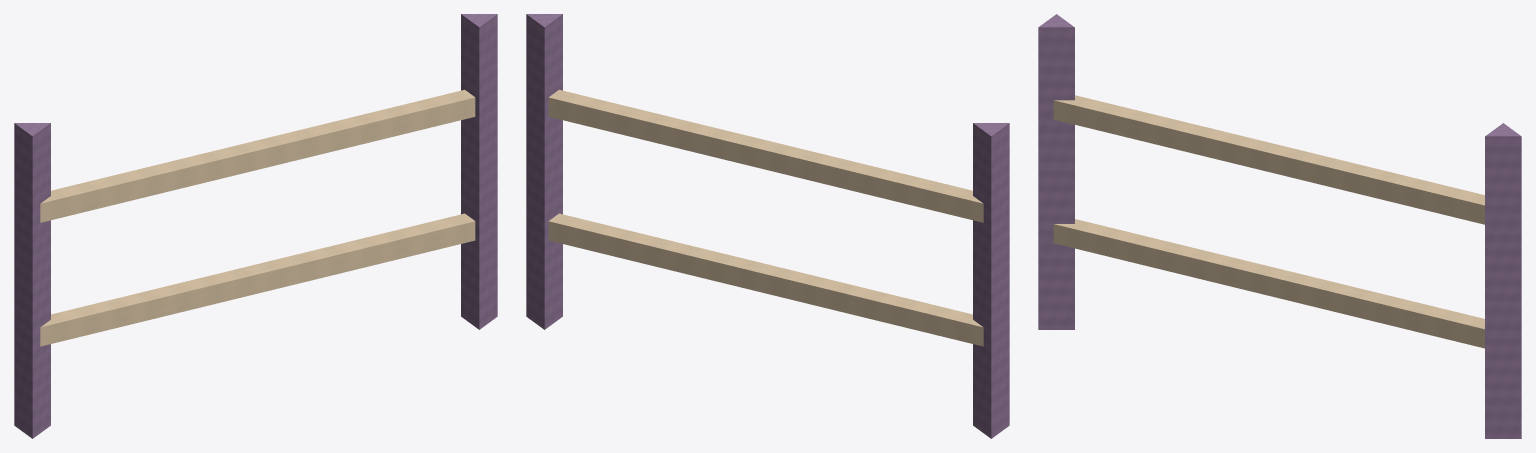
Rendered from atlas100-papercraft-util04.lod2.glb.
The picture shows the model from 3 angles, left to right: view 1: azimuth 30°, elevation 25°; view 2: azimuth 150°, elevation 25°; view 3: azimuth 330°, elevation 25°; orthographic projection.
Parts seen in each view (by area): view 1: atlas100-papercraft-util04:part-004, atlas100-papercraft-util04:part-005, atlas100-papercraft-util04:part-000, atlas100-papercraft-util04:part-002; view 2: atlas100-papercraft-util04:part-004, atlas100-papercraft-util04:part-005, atlas100-papercraft-util04:part-000, atlas100-papercraft-util04:part-002; view 3: atlas100-papercraft-util04:part-005, atlas100-papercraft-util04:part-004, atlas100-papercraft-util04:part-002, atlas100-papercraft-util04:part-000.
Boxes of the visible parts, x1,y1,x2,y2 form: atlas100-papercraft-util04:part-004: [40, 213, 475, 346]; atlas100-papercraft-util04:part-005: [40, 89, 475, 222]; atlas100-papercraft-util04:part-000: [14, 123, 50, 438]; atlas100-papercraft-util04:part-002: [461, 14, 497, 329]; atlas100-papercraft-util04:part-004: [548, 213, 983, 346]; atlas100-papercraft-util04:part-005: [548, 89, 983, 222]; atlas100-papercraft-util04:part-000: [973, 123, 1009, 438]; atlas100-papercraft-util04:part-002: [526, 14, 562, 329]; atlas100-papercraft-util04:part-005: [1053, 95, 1484, 224]; atlas100-papercraft-util04:part-004: [1053, 219, 1484, 348]; atlas100-papercraft-util04:part-002: [1485, 123, 1521, 438]; atlas100-papercraft-util04:part-000: [1038, 14, 1074, 329].
Size of the model in its own units: 1.81 by 1.1 by 0.1212.
Materials: 2 (2 with a texture image).
